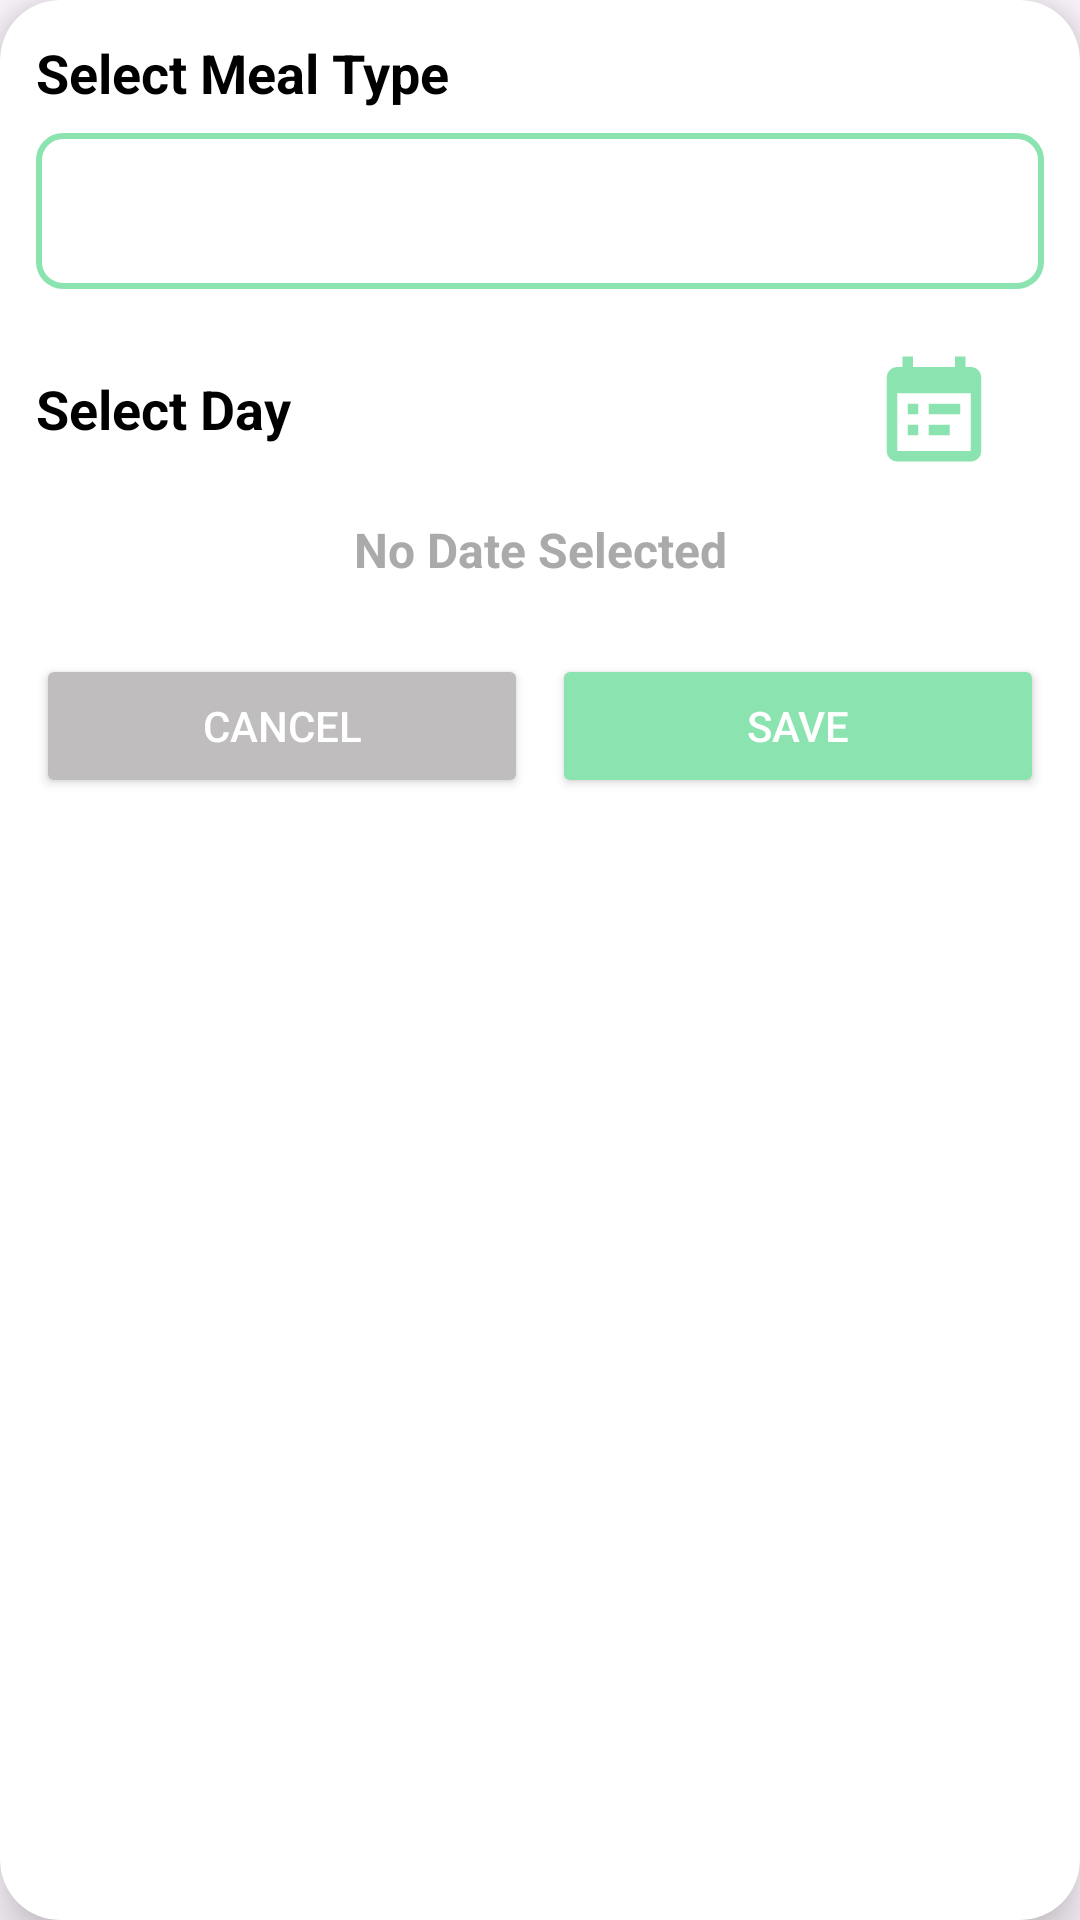

Point at icon controls on the screen. Image size 1080px x 1920px, points as (x=x, y=y).
calendar: (x=934, y=409)
